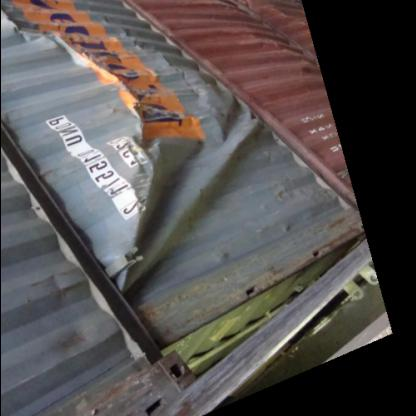Damage: (2, 1, 166, 292), (148, 40, 254, 235)
